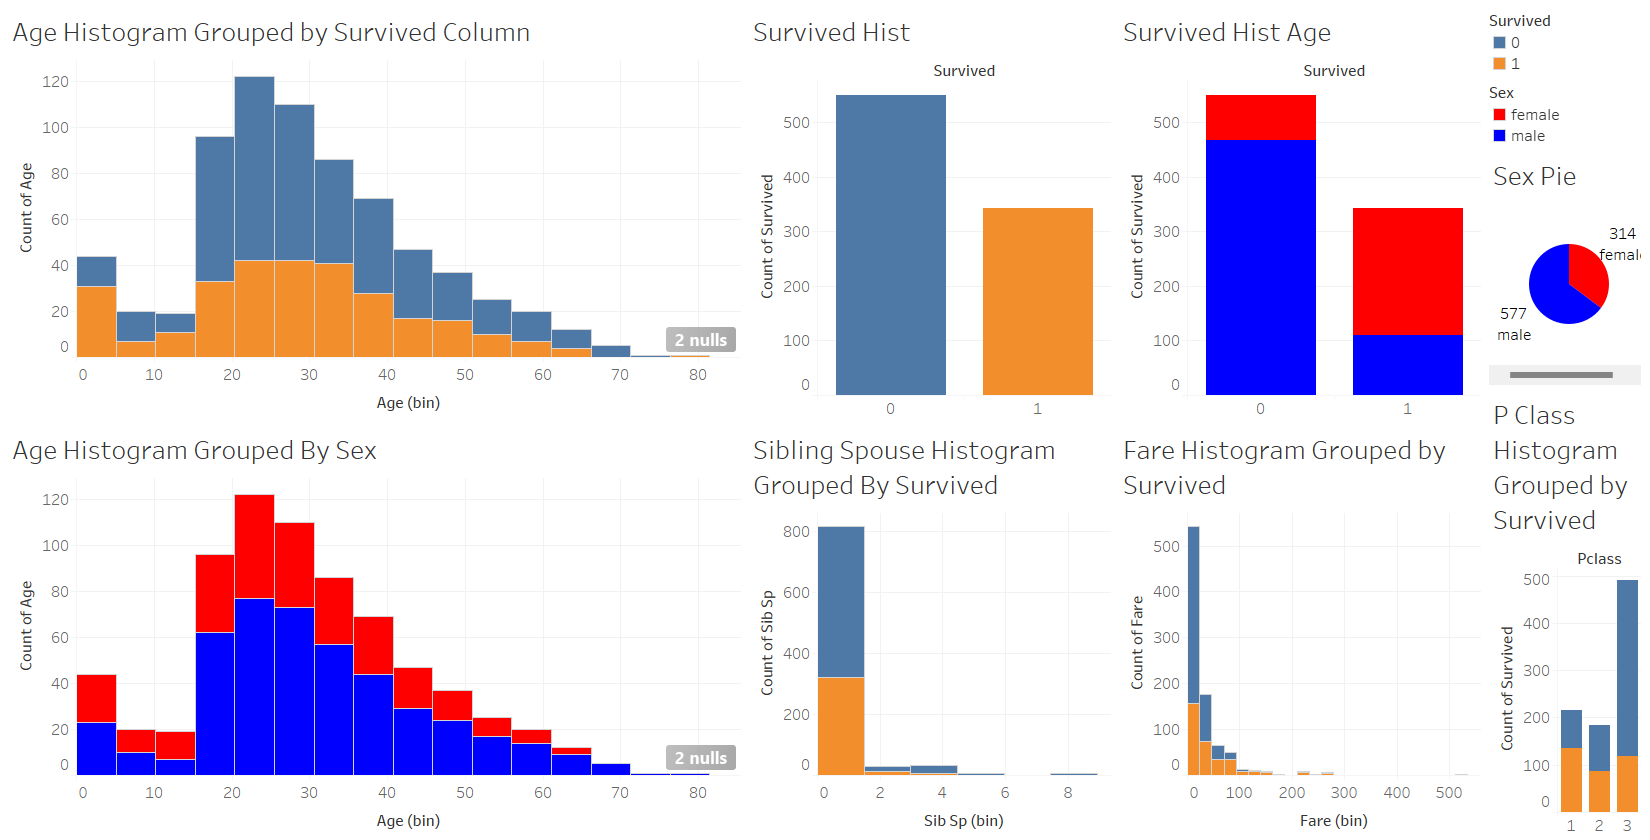

This screenshot's page, from the dashboard's own definition file:
{"tool":"tableau","page":{"name":"Summary","canvas":[1000,1000],"units":"permille","ordinal":0},"visuals":[{"type":"worksheet","title":"Age Hist","mark":"Automatic","rows":["Age"],"cols":["Age (bin)"],"box":[4.8,9.4,446.9,490.6]},{"type":"worksheet","title":"Survived Hist","mark":"Automatic","rows":["Survived"],"cols":["Survived"],"box":[451.7,9.4,223.5,490.6]},{"type":"worksheet","title":"Survived Hist Age","mark":"Automatic","rows":["Survived"],"cols":["Survived"],"box":[675.2,9.4,223.4,490.6]},{"type":"legend","title":"Age Hist","param":"[federated.0sw34sb0uwqk9r139510i0j2mm04].[none:Survived:ok]","box":[898.6,9.4,96.6,84.6]},{"type":"legend","title":"Age Hist Sex","param":"[federated.0sw34sb0uwqk9r139510i0j2mm04].[none:Sex:nk]","box":[898.6,94,96.6,84.6]},{"type":"worksheet","title":"Sex Pie","mark":"Pie","box":[898.6,178.6,96.6,280.9]},{"type":"worksheet","title":"P Class Hist","mark":"Automatic","rows":["Survived"],"cols":["Pclass"],"box":[898.6,459.5,96.6,531.1]},{"type":"worksheet","title":"Age Hist Sex","mark":"Automatic","rows":["Age"],"cols":["Age (bin)"],"box":[4.8,500,446.9,490.6]},{"type":"worksheet","title":"Sip Sp Hist","mark":"Automatic","rows":["SibSp"],"cols":["Sib Sp (bin)"],"box":[451.7,500,223.5,490.6]},{"type":"worksheet","title":"Fare Hist","mark":"Automatic","rows":["Fare"],"cols":["Fare (bin)"],"box":[675.2,500,223.4,490.6]}]}

Visuals, with their boxes on the dashboard's canvas, which has no fixed pixel size, in thousandths of its width and height (x1, y1, x2, y2). These are canvas units, not pixel positions in the 1650x840 screenshot, which may show the page scaled, cropped or inside an application window:
"Age Hist" worksheet: bbox=(5, 9, 452, 500)
"Survived Hist" worksheet: bbox=(452, 9, 675, 500)
"Survived Hist Age" worksheet: bbox=(675, 9, 899, 500)
"Age Hist" legend: bbox=(899, 9, 995, 94)
"Age Hist Sex" legend: bbox=(899, 94, 995, 179)
"Sex Pie" worksheet (Pie marks): bbox=(899, 179, 995, 460)
"P Class Hist" worksheet: bbox=(899, 460, 995, 991)
"Age Hist Sex" worksheet: bbox=(5, 500, 452, 991)
"Sip Sp Hist" worksheet: bbox=(452, 500, 675, 991)
"Fare Hist" worksheet: bbox=(675, 500, 899, 991)
